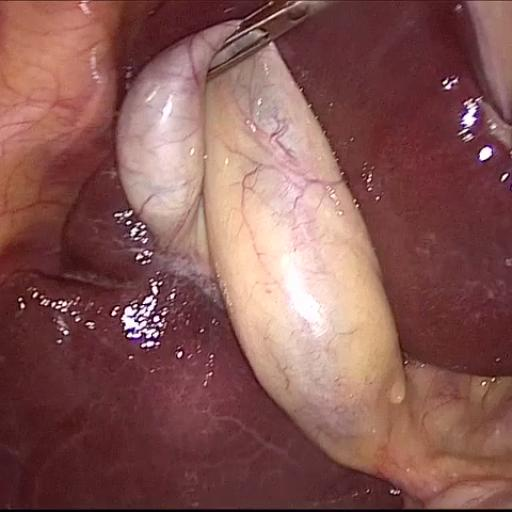Grasper: (178, 2, 360, 120)
